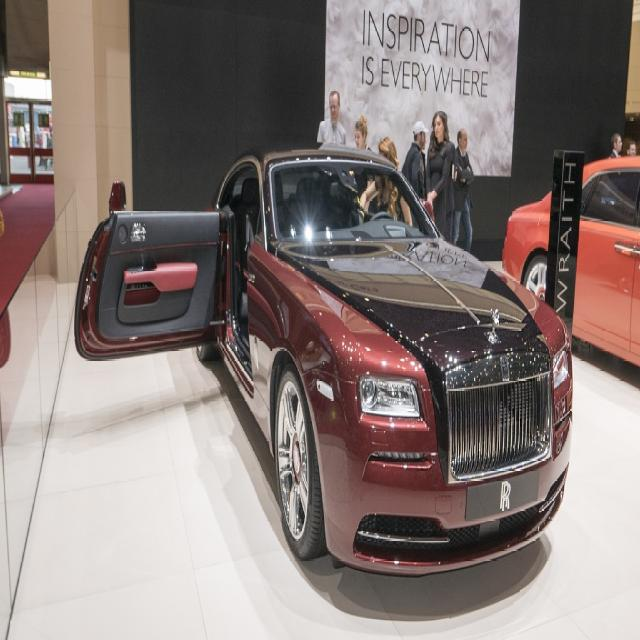car: (71, 138, 583, 638)
